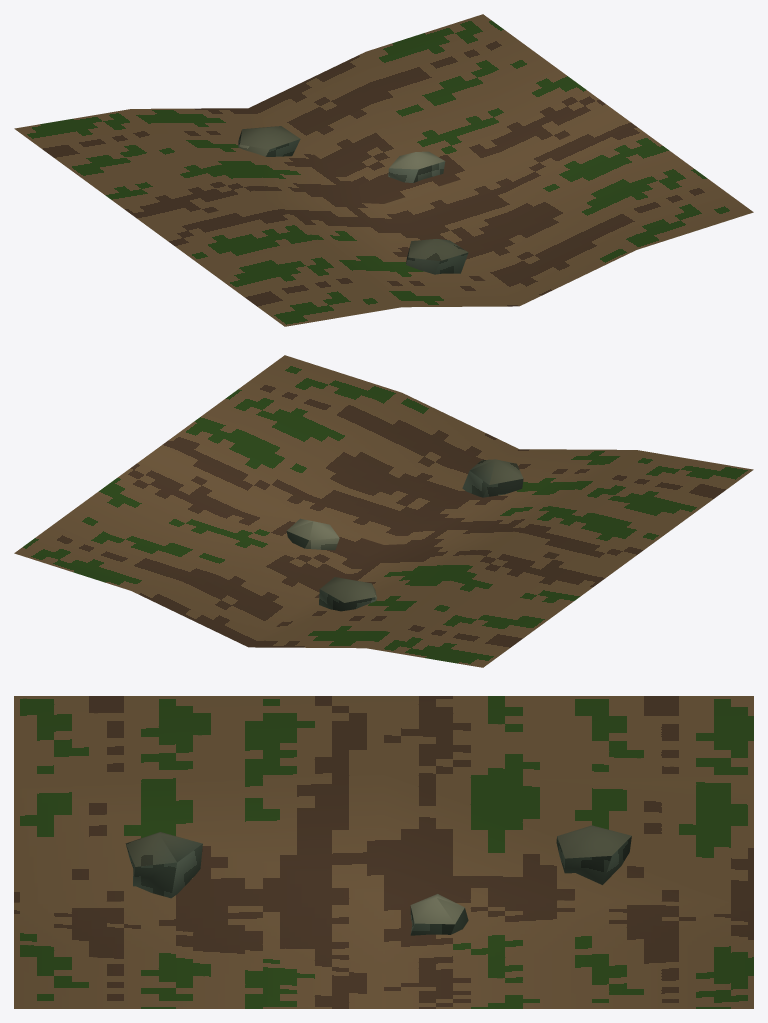
The model's file is land.wash__narrow.glb.
3 renders of one model, top to bottom at view 1: azimuth 30°, elevation 25°; view 2: azimuth 150°, elevation 25°; view 3: azimuth 270°, elevation 25°, orthographic. The views are drawn at different scales.
Visible parts, largest first — view 1: kit_shell_ground, kit_pebbles; view 2: kit_shell_ground, kit_pebbles; view 3: kit_shell_ground, kit_pebbles.
Boxes of the visible parts, <box> form: kit_shell_ground: <box>14,14,753,326</box>; kit_pebbles: <box>238,126,468,274</box>; kit_shell_ground: <box>14,355,753,667</box>; kit_pebbles: <box>286,459,523,611</box>; kit_shell_ground: <box>14,696,753,1008</box>; kit_pebbles: <box>125,825,631,935</box>.
Size of the model in its own units: 4 by 0.3 by 4.
Materials: 2 (2 with a texture image).
